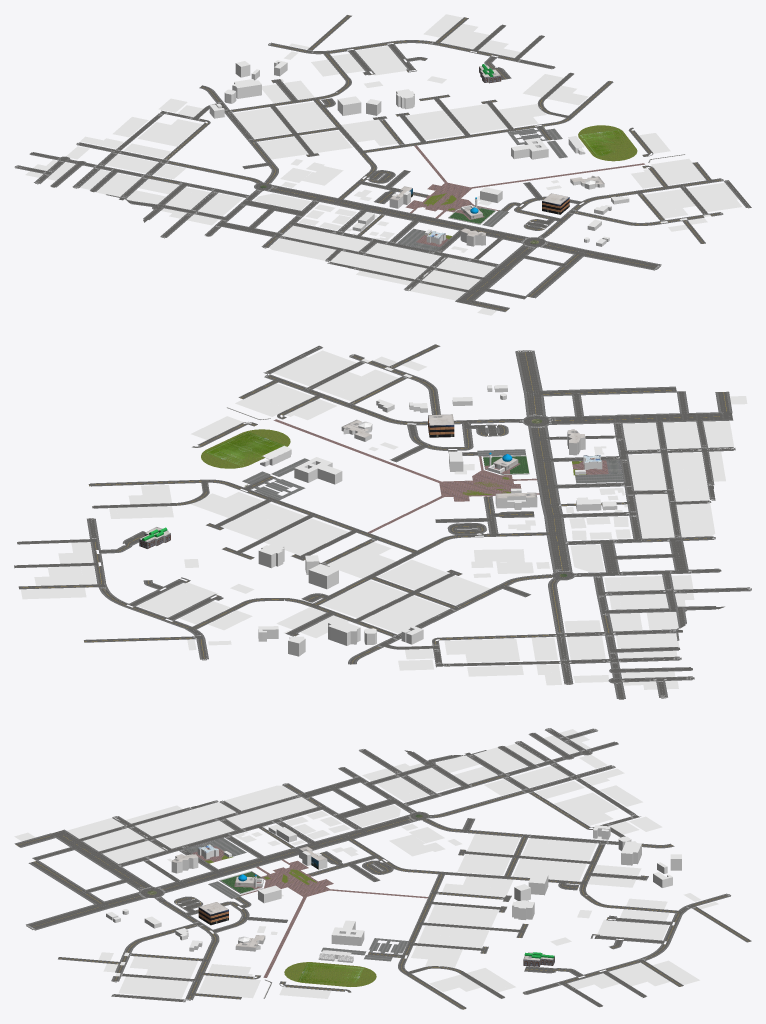
The model's file is anah_city5_0.glb_0.glb.
The picture shows the model from 3 angles, top to bottom: view 1: azimuth 30°, elevation 25°; view 2: azimuth 150°, elevation 25°; view 3: azimuth 270°, elevation 25°; orthographic projection. The views are drawn at different scales.
Parts seen in each view (by area): view 1: Shape_1_2, Shape_3762, Shape_806, Shape_2901, Shape_971, Shape_950; view 2: Shape_1_2, Shape_3762, Shape_806, Shape_2901, Shape_971, Shape_950, Shape_974, Shape_979; view 3: Shape_1_2, Shape_3762, Shape_806, Shape_2901, Shape_971, Shape_950.
Boxes of the visible parts, box(x1,y1,x2,y2) form: Shape_1_2: box(405, 145, 644, 218); Shape_3762: box(578, 125, 637, 161); Shape_806: box(579, 129, 625, 156); Shape_2901: box(511, 137, 548, 159); Shape_971: box(302, 162, 343, 185); Shape_950: box(254, 193, 310, 210); Shape_1_2: box(273, 419, 539, 533); Shape_3762: box(201, 429, 290, 468); Shape_806: box(204, 432, 285, 465); Shape_2901: box(294, 457, 342, 484); Shape_971: box(471, 549, 524, 567); Shape_950: box(570, 544, 604, 571); Shape_974: box(328, 619, 360, 645); Shape_979: box(308, 564, 338, 589); Shape_1_2: box(240, 859, 427, 977); Shape_3762: box(284, 962, 376, 986); Shape_806: box(298, 963, 363, 985); Shape_2901: box(331, 920, 364, 945); Shape_971: box(389, 834, 445, 856); Shape_950: box(347, 804, 400, 826).
Size of what is drawn, in the model's own units: 1095 by 47.87 by 1211.
Materials: 34 (31 with a texture image).
